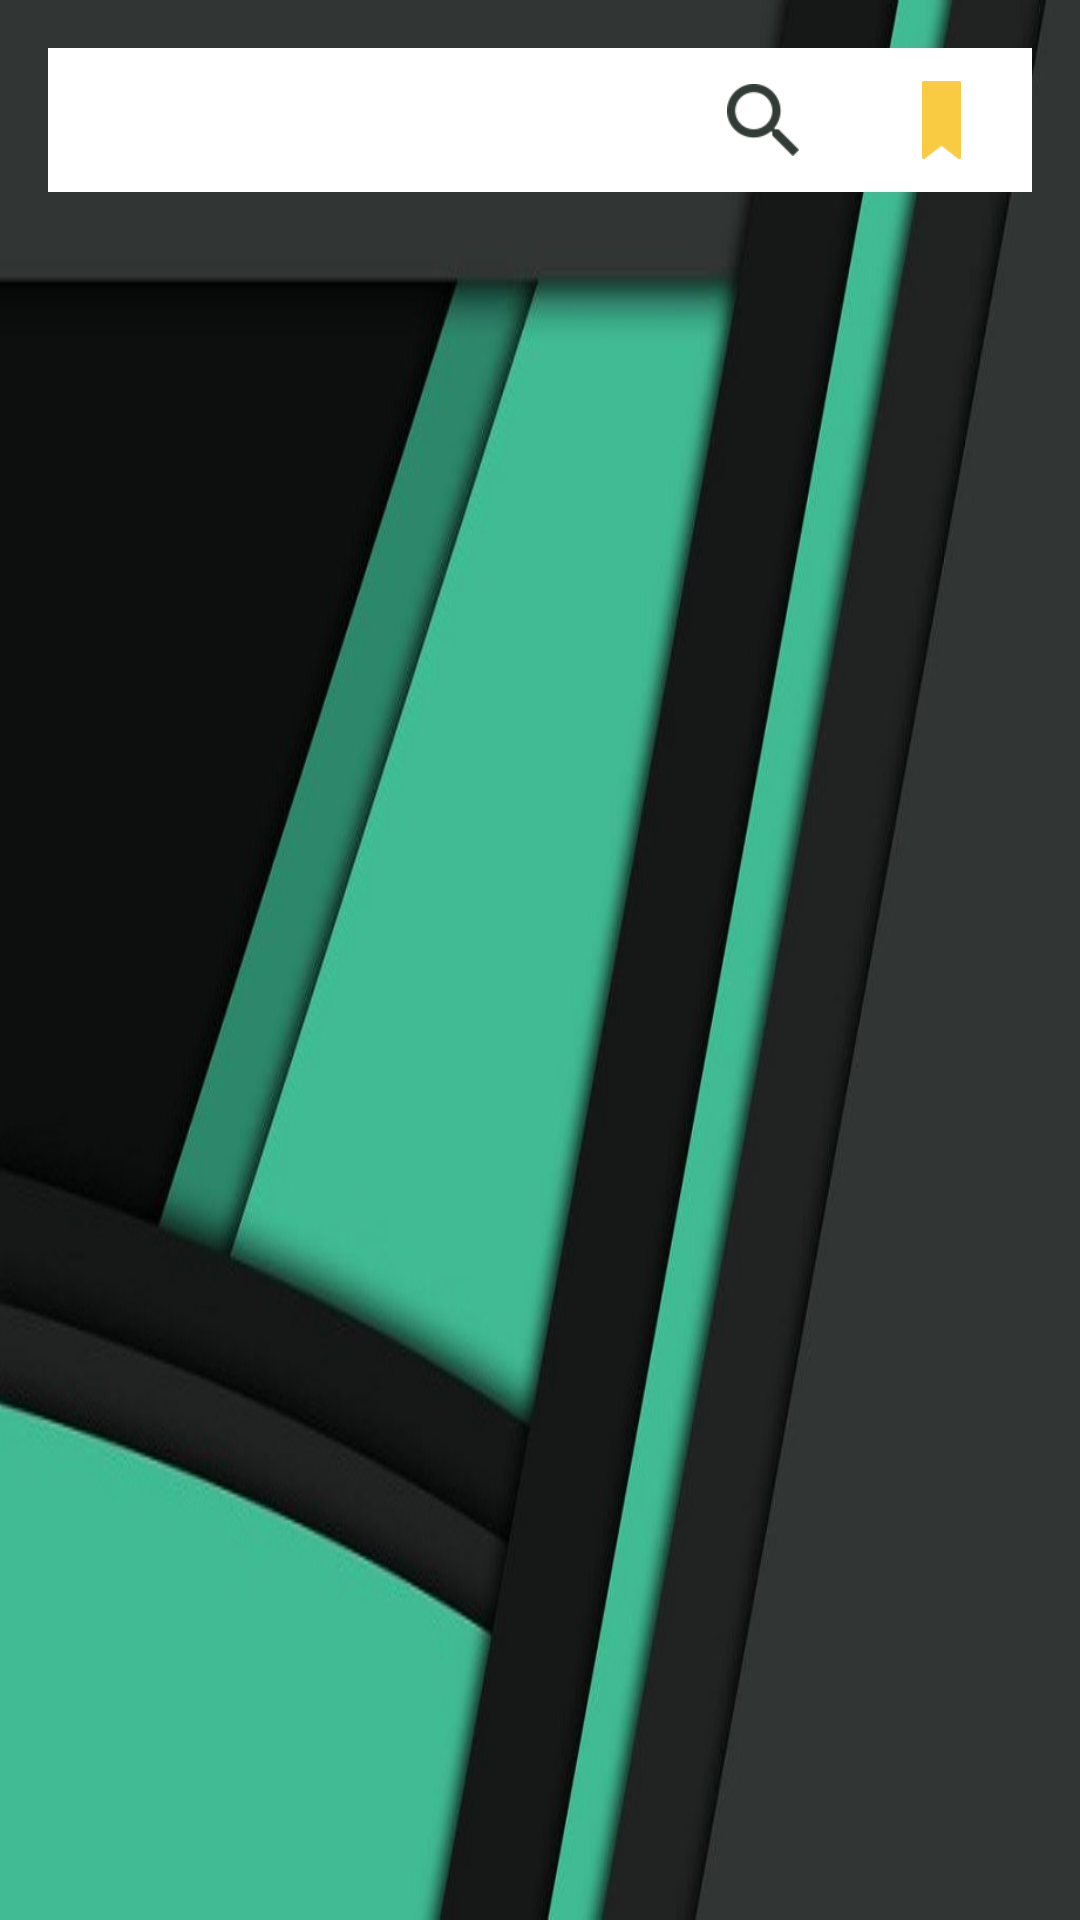

Point at icon controls on the screen. Image size 1080*1920, points as (x,y).
bookmarkimg: (941,120)
search: (763,120)
